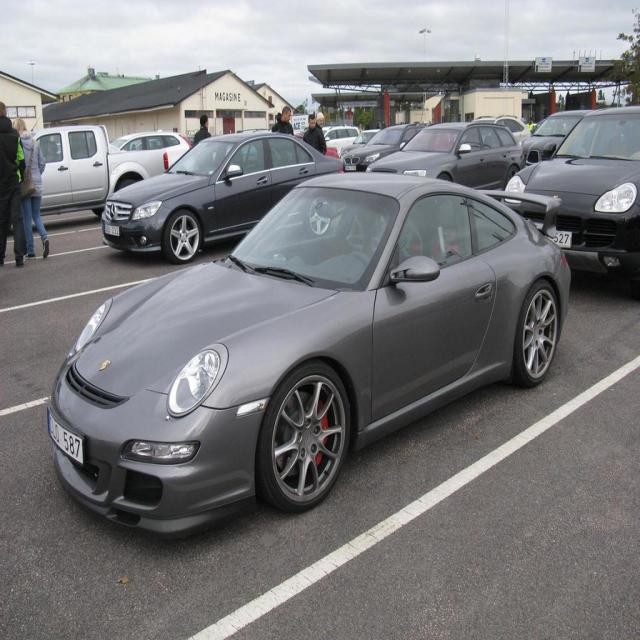car: (49, 166, 560, 520)
